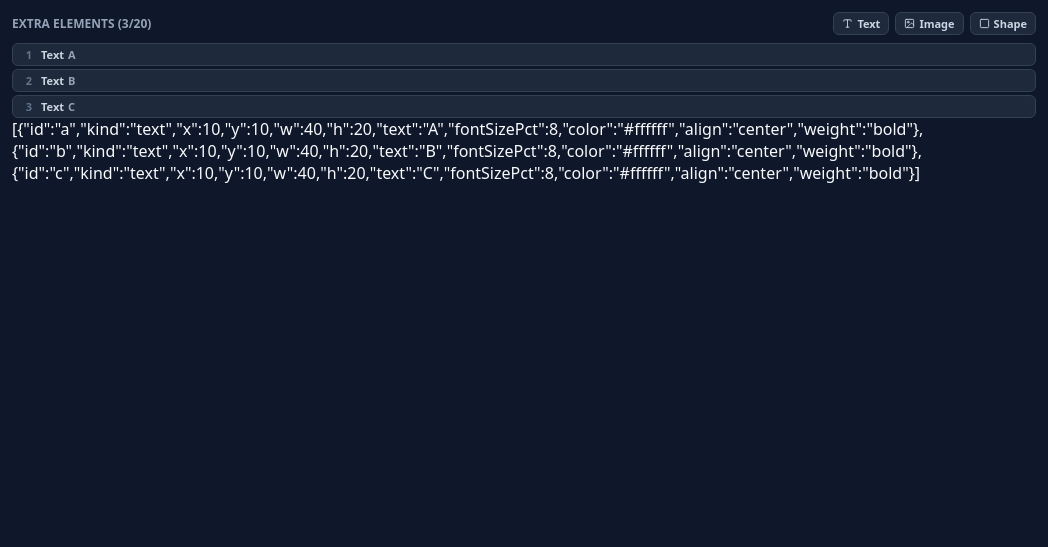
Test: ElementsEditor › reorders (stacking order) and deletes
This screenshot has width=1048, height=547.
Click the button with test id "element-row" showing "1 Text A" at (29,54), box [12,43,1036,66]
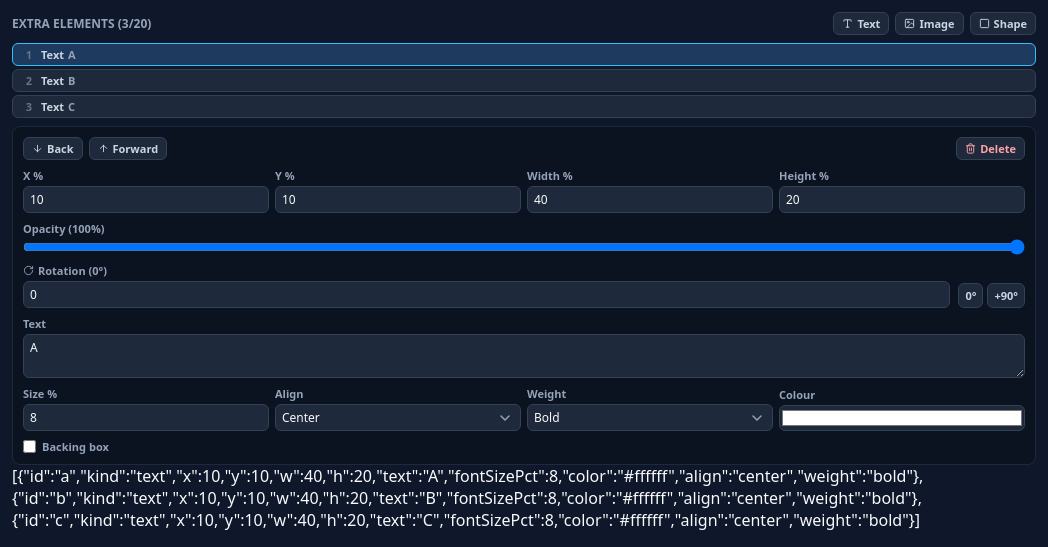
Check: the button with test id "element-back" is disabled, box [23,137,82,160]
Click the button with test id "element-forward" at (128,148), box [88,137,167,160]
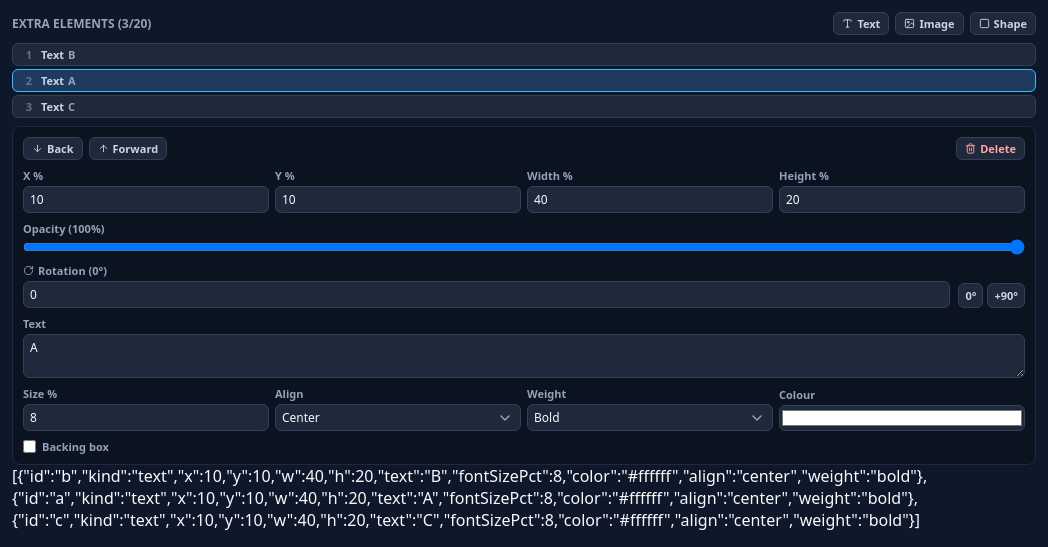
Click the button with test id "element-forward" at (128,148), box [88,137,167,160]
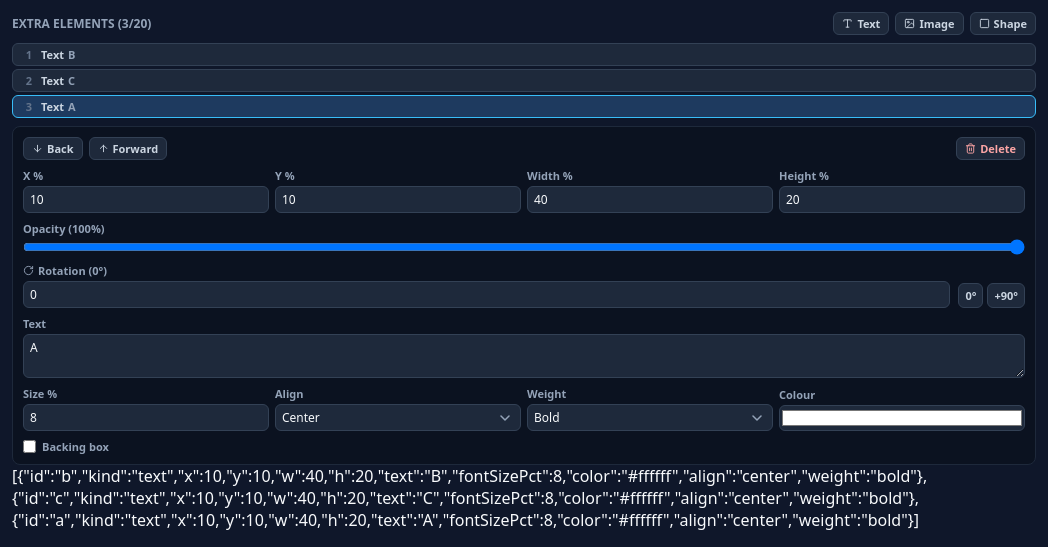
Click the button with test id "element-delete" at (991,148), box [956,137,1025,160]
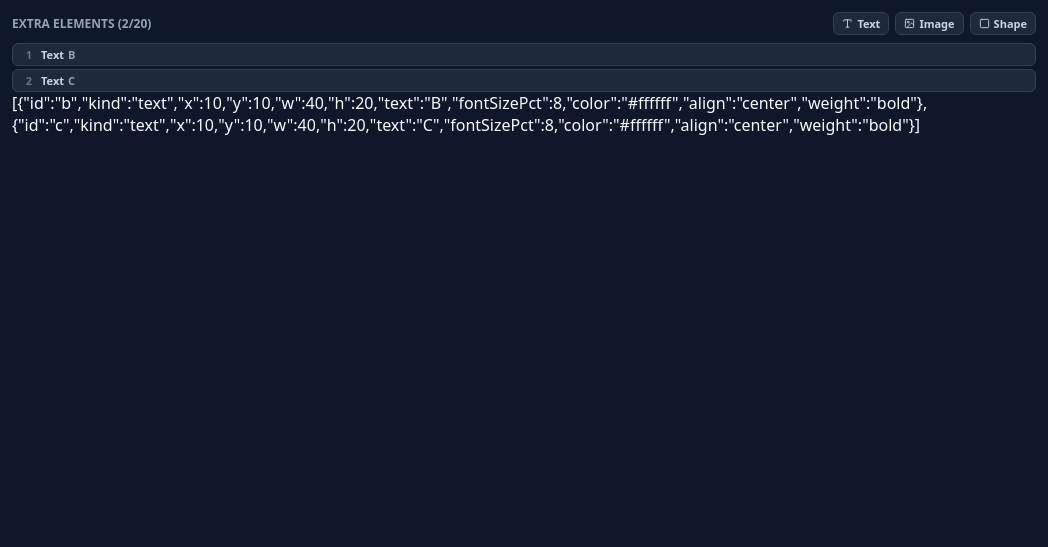
Check: the text box with test id "element-text" is gone
